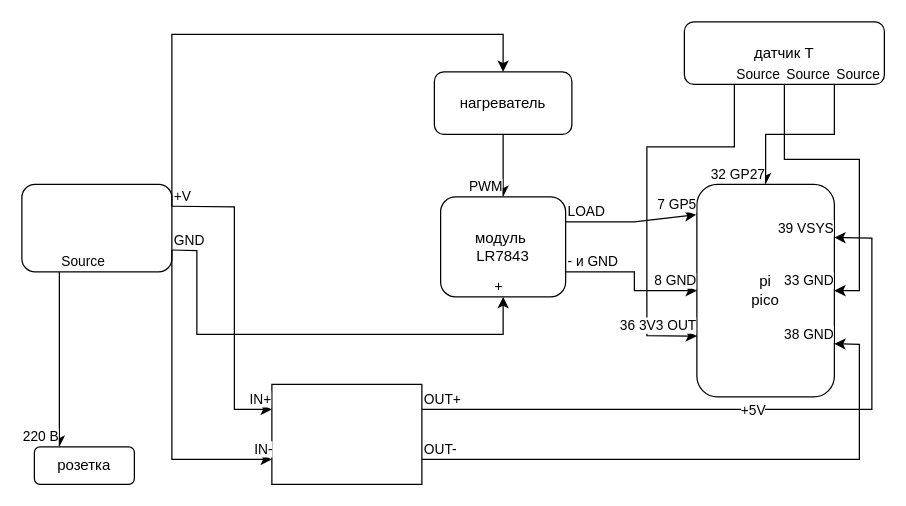
The diagram is 906 pixels wide and 506 high, and some of its shapes have lost their labels. The shapes that lost their labels are listed below. From the top down, each one's centre as x and y in pixels, then its label:
(x=96, y=227): RS-100-12
(x=346, y=433): MP1584EN 5В
